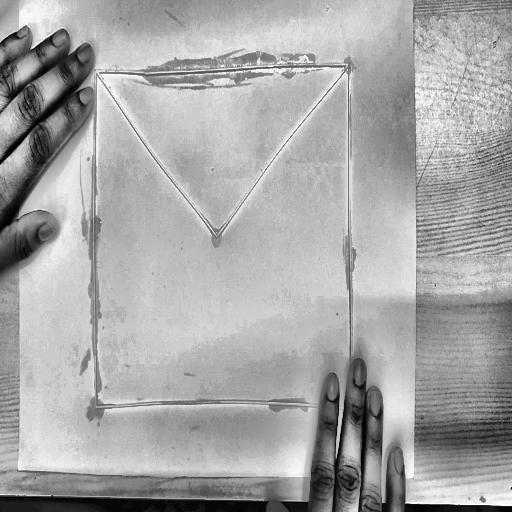bottom_left: (15, 461, 24, 477)
bottom_right: (409, 467, 418, 483)
envelop: (90, 58, 358, 424)
